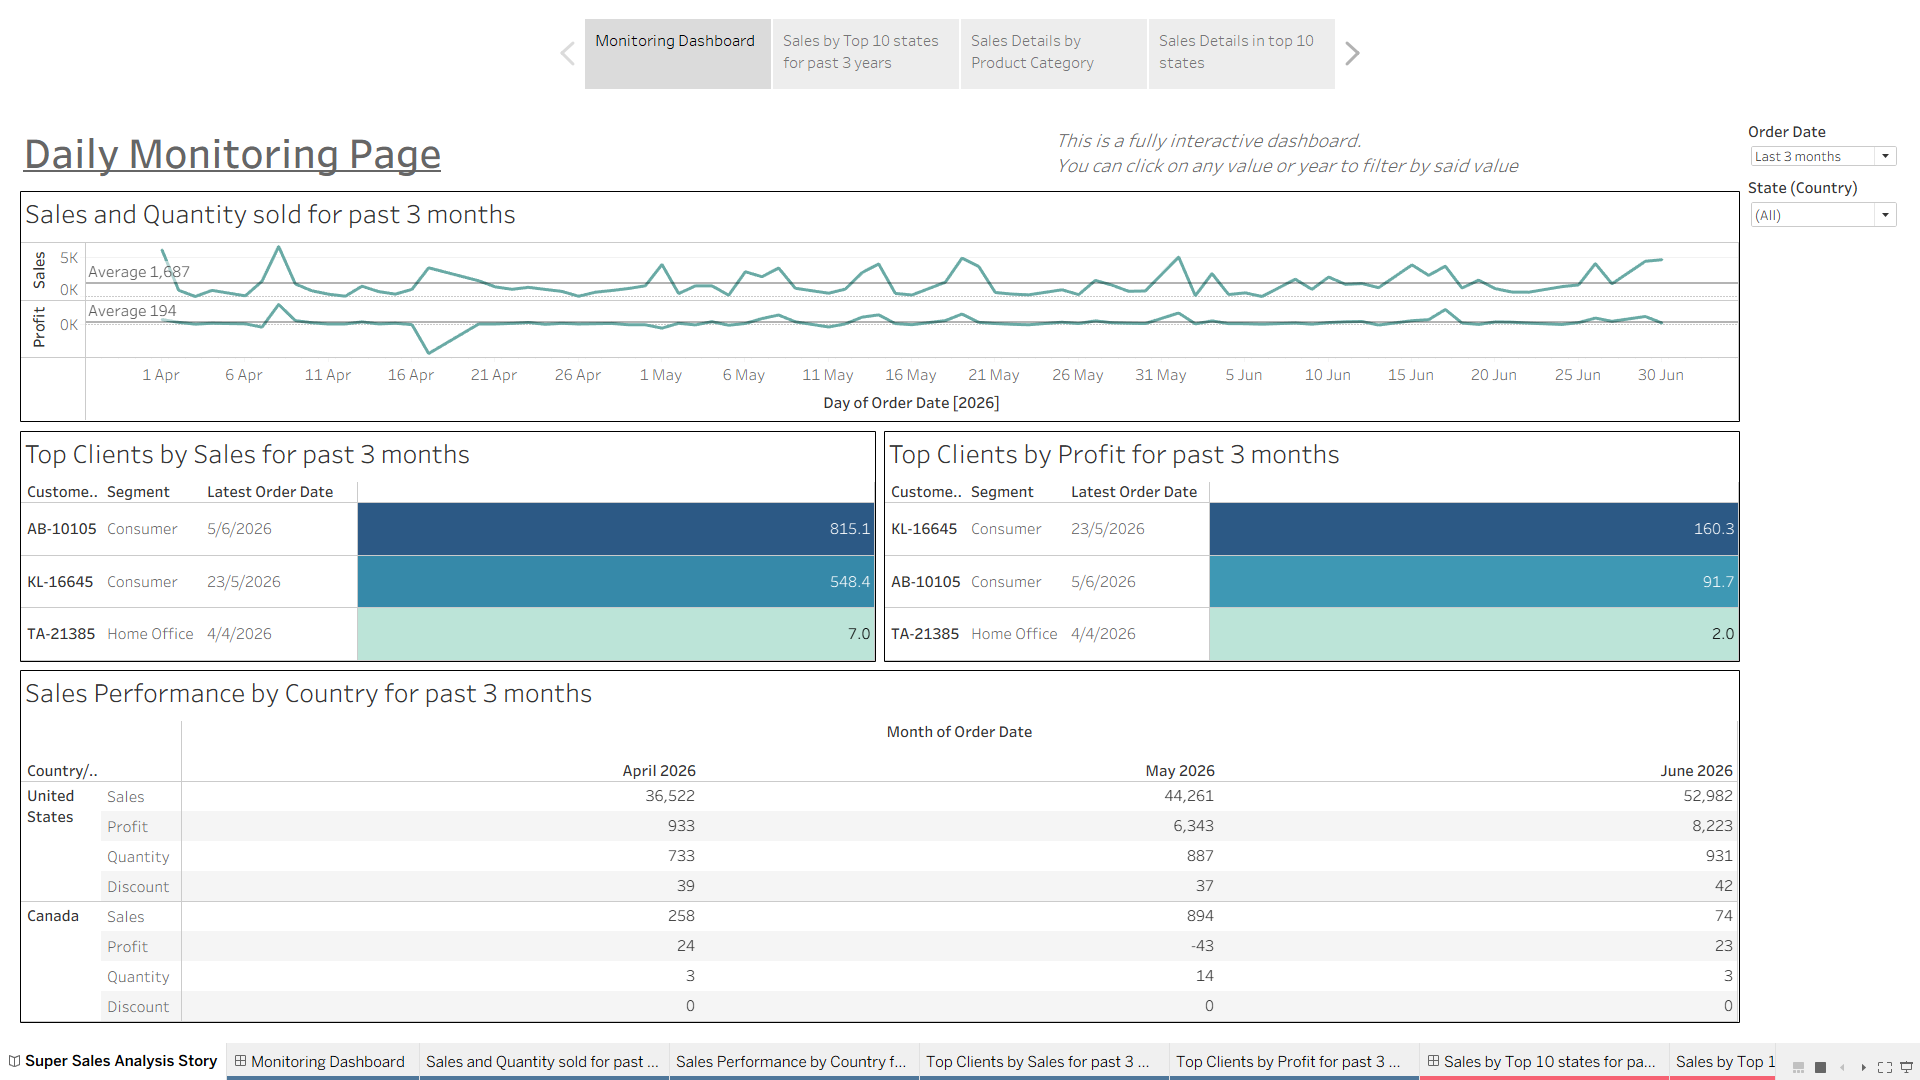

Layout of this report page (visuals, bound fields, positions):
{"tool":"tableau","page":{"name":"Monitoring Dashboard","canvas":[1000,1000],"units":"permille","ordinal":0},"visuals":[{"type":"text","box":[4.8,9.4,893.8,75.8]},{"type":"filter","title":"Sales Performance by Country for past 3 months","param":"[federated.16buhzm0bt8dtm1b2378x1yd18d9].[none:Order Date:qk]","box":[898.6,9.4,96.6,64.6]},{"type":"text","box":[548.6,14.1,336.2,65.8]},{"type":"filter","title":"Sales Performance by Country for past 3 months","param":"[federated.16buhzm0bt8dtm1b2378x1yd18d9].[none:Calculation_2013771162484739:nk]","box":[898.6,74,96.6,71.7]},{"type":"worksheet","title":"Sales and Quantity sold for past 3 months","mark":"Automatic","rows":["Sales","Profit"],"cols":["Order Date"],"box":[4.8,85.2,893.8,258.2]},{"type":"worksheet","title":"Top Clients by Sales for past 3 months","mark":"Square","rows":["Customer ID","Segment","Calculation_2013771165106180"],"box":[4.8,343.4,446.9,258.2]},{"type":"worksheet","title":"Top Clients by Profit for past 3 months","mark":"Square","rows":["Customer ID","Segment","Calculation_2013771165106180"],"box":[451.7,343.4,446.9,258.2]},{"type":"worksheet","title":"Sales Performance by Country for past 3 months","mark":"Text","rows":["Country/Region"],"cols":["Order Date"],"box":[4.8,601.6,893.8,388.9]}]}

Visuals, with their boxes on the dashboard's canvas, which has no fixed pixel size, in thousandths of its width and height (x1, y1, x2, y2). These are canvas units, not pixel positions in the 1920x1080 screenshot, which may show the page scaled, cropped or inside an application window:
text: 5:9:899:85
"Sales Performance by Country for past 3 months" filter: 899:9:995:74
text: 549:14:885:80
"Sales Performance by Country for past 3 months" filter: 899:74:995:146
"Sales and Quantity sold for past 3 months" worksheet: 5:85:899:343
"Top Clients by Sales for past 3 months" worksheet (Square marks): 5:343:452:602
"Top Clients by Profit for past 3 months" worksheet (Square marks): 452:343:899:602
"Sales Performance by Country for past 3 months" worksheet (Text marks): 5:602:899:990
